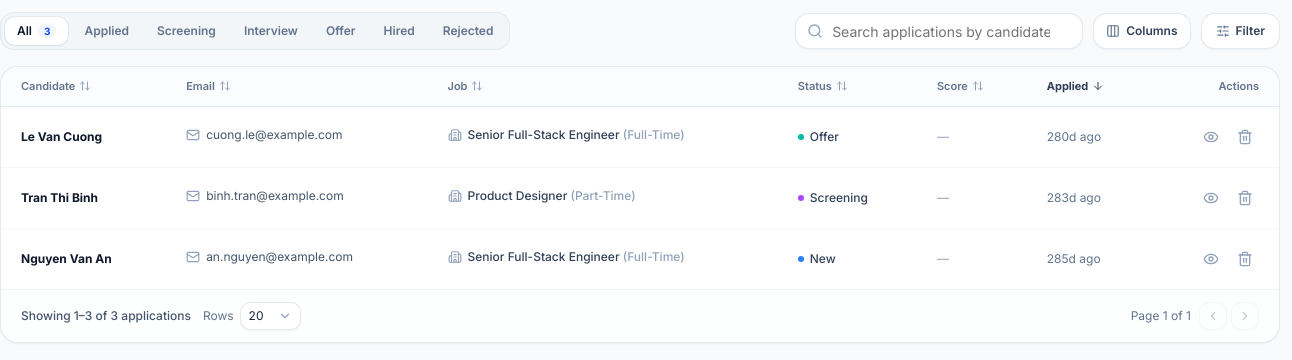
Test: ApplicationsDataTable Component › 3. Column Visibility Dropdown › prevents unchecking locked candidate column
This screenshot has width=1292, height=360.
Click the button "Columns" at (1142, 31), box [1093,13,1190,49]
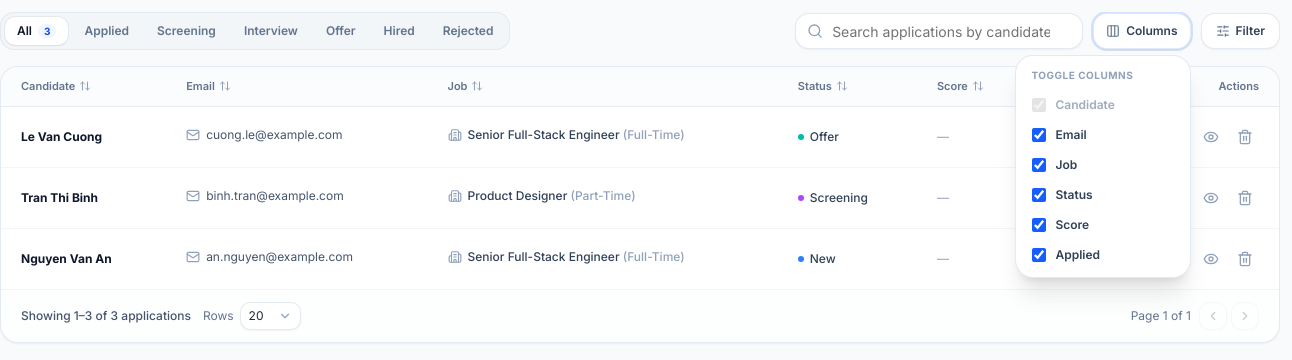
expect the checkbox labelled "Candidate" is disabled: met, box [1032,98,1046,112]
